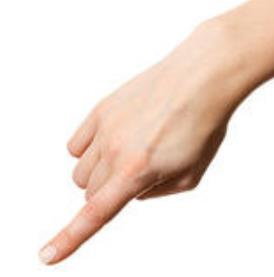up: (34, 47, 218, 269)
